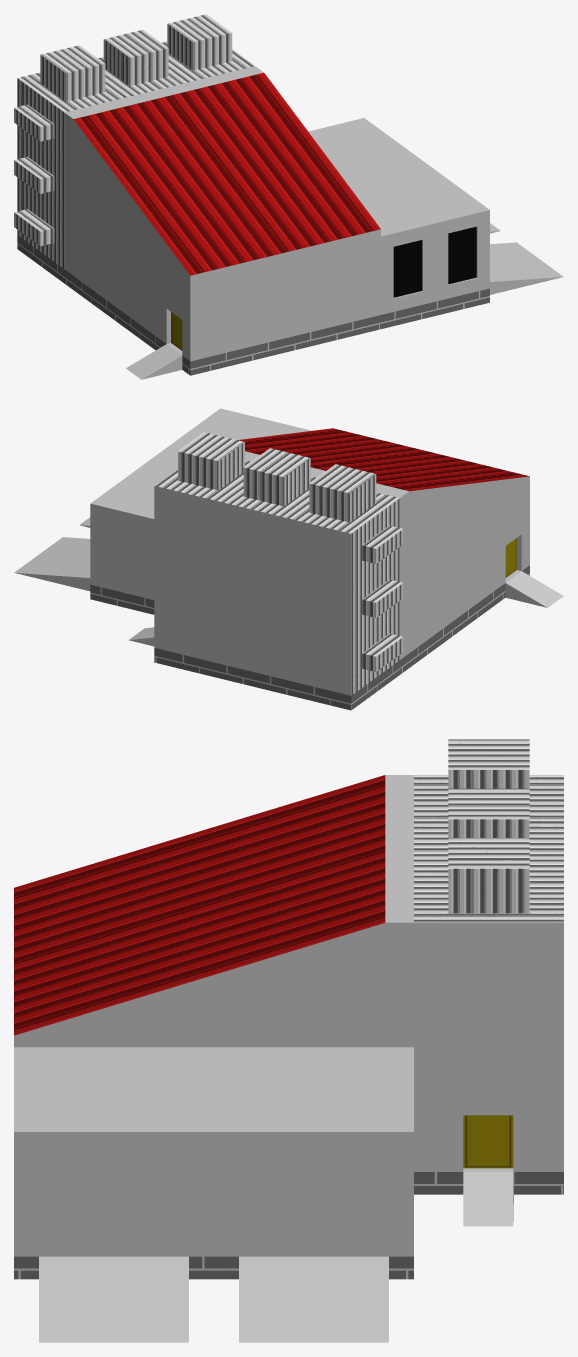
File: Area12_StandardMineBuilding.fbx
3 views of the same model, one above another, from view 1: azimuth 30°, elevation 25°; view 2: azimuth 150°, elevation 25°; view 3: azimuth 270°, elevation 25° (orthographic). The views are drawn at different scales.
Parts seen in each view (by area): view 1: BasicMineBody; view 2: BasicMineBody; view 3: BasicMineBody.
Part boxes in pixels (bbox=[...]): BasicMineBody: bbox=[14, 14, 563, 379]; BasicMineBody: bbox=[14, 408, 563, 710]; BasicMineBody: bbox=[14, 739, 563, 1342].
Bounding box in the file's own units: 31 × 22 × 13.98.
